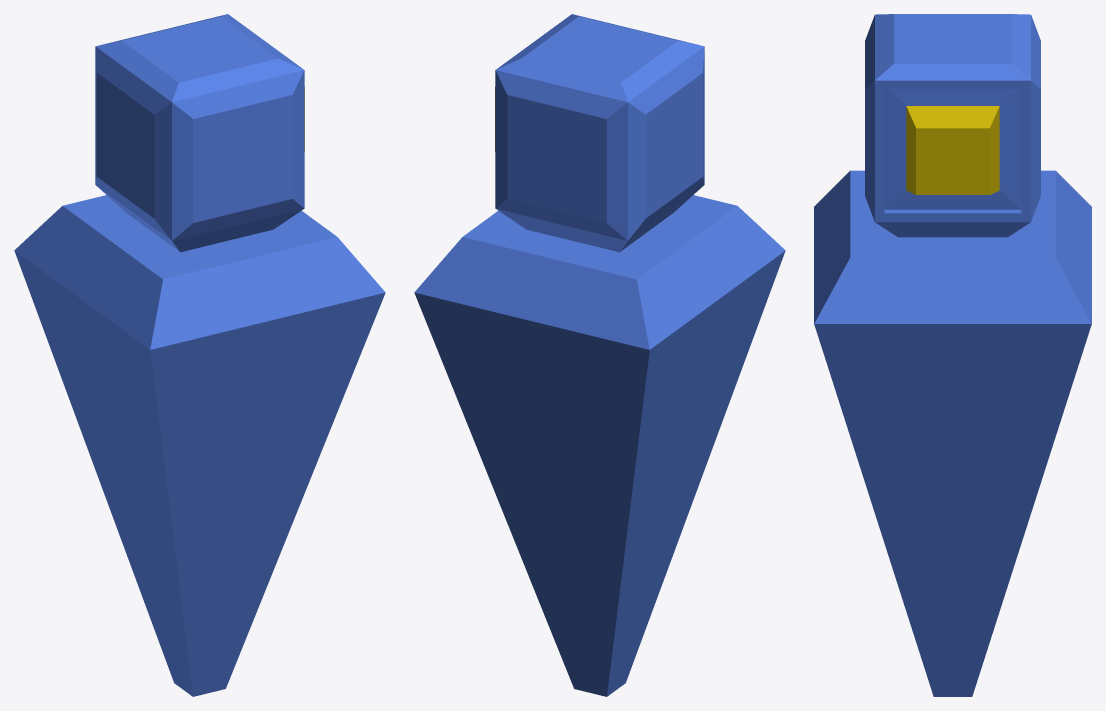
The model's file is Player.fbx.
3 renders of one model, left to right at view 1: azimuth 30°, elevation 25°; view 2: azimuth 150°, elevation 25°; view 3: azimuth 270°, elevation 25°, orthographic. The views are drawn at different scales.
Parts seen in each view (by area): view 1: Cube.001; view 2: Cube.001; view 3: Cube.001.
Part boxes in pixels (<box>): Cube.001: <box>14,14,385,696</box>; Cube.001: <box>414,14,785,696</box>; Cube.001: <box>814,14,1091,696</box>.
Bounding box in the file's own units: 200 × 517 × 200.
